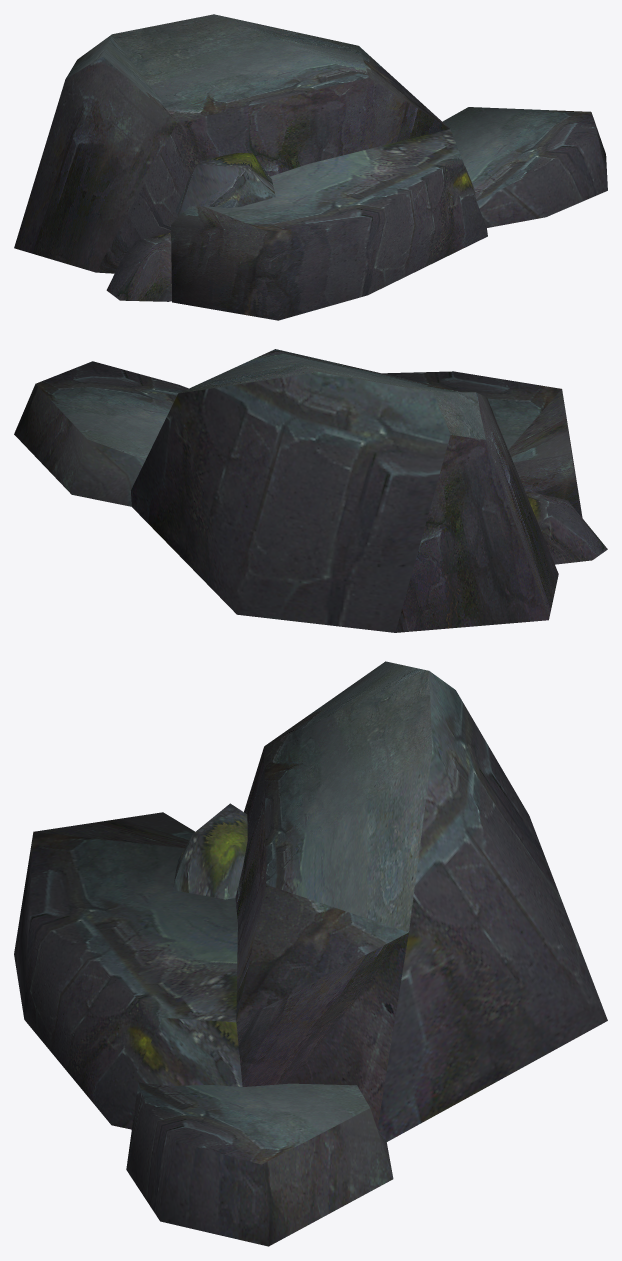
The model's file is yw_museyulin_fengbianshi03.FBX.
3 renders of one model, top to bottom at view 1: azimuth 30°, elevation 25°; view 2: azimuth 150°, elevation 25°; view 3: azimuth 270°, elevation 25°, orthographic. The views are drawn at different scales.
Visible parts, largest first — view 1: yw_museyulin_fengbianshi03; view 2: yw_museyulin_fengbianshi03; view 3: yw_museyulin_fengbianshi03.
Part boxes in pixels (x1,y1,x2,y2): yw_museyulin_fengbianshi03: [14, 14, 607, 320]; yw_museyulin_fengbianshi03: [14, 349, 607, 632]; yw_museyulin_fengbianshi03: [14, 661, 607, 1246].
Size of the model in its own units: 1261 by 416 by 834.
